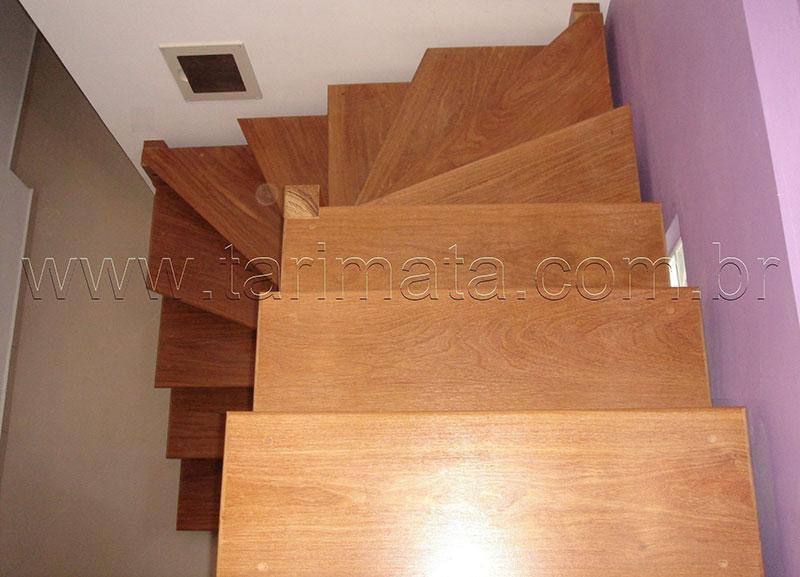escada: (290, 154, 750, 577)
